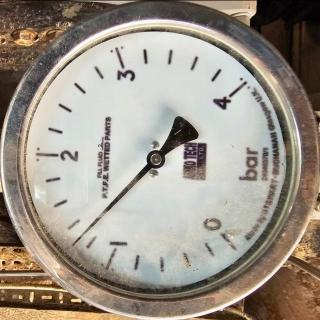gauge: (2, 5, 318, 318), (0, 313, 236, 319), (204, 217, 241, 251), (220, 76, 251, 108), (146, 147, 166, 169), (69, 238, 80, 248)
